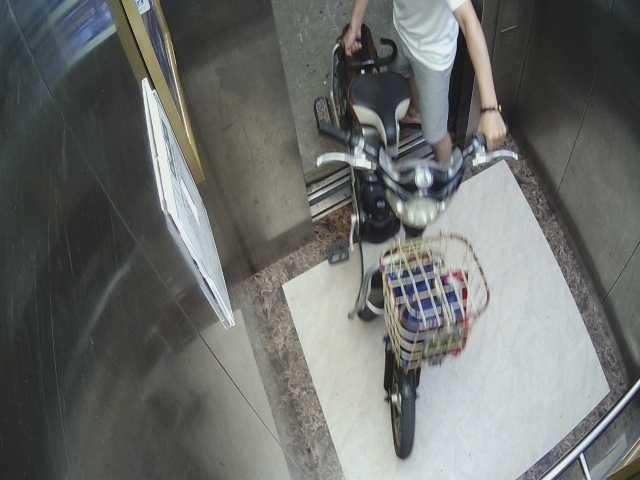emotor: (303, 25, 487, 457)
